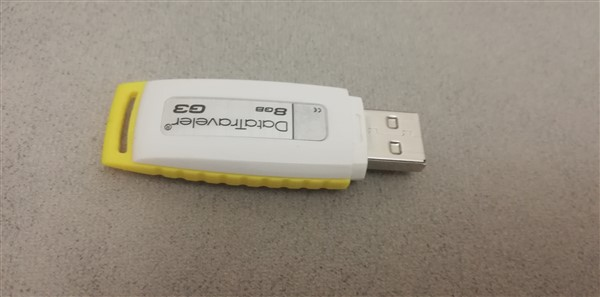flash disk: (99, 71, 435, 197)
